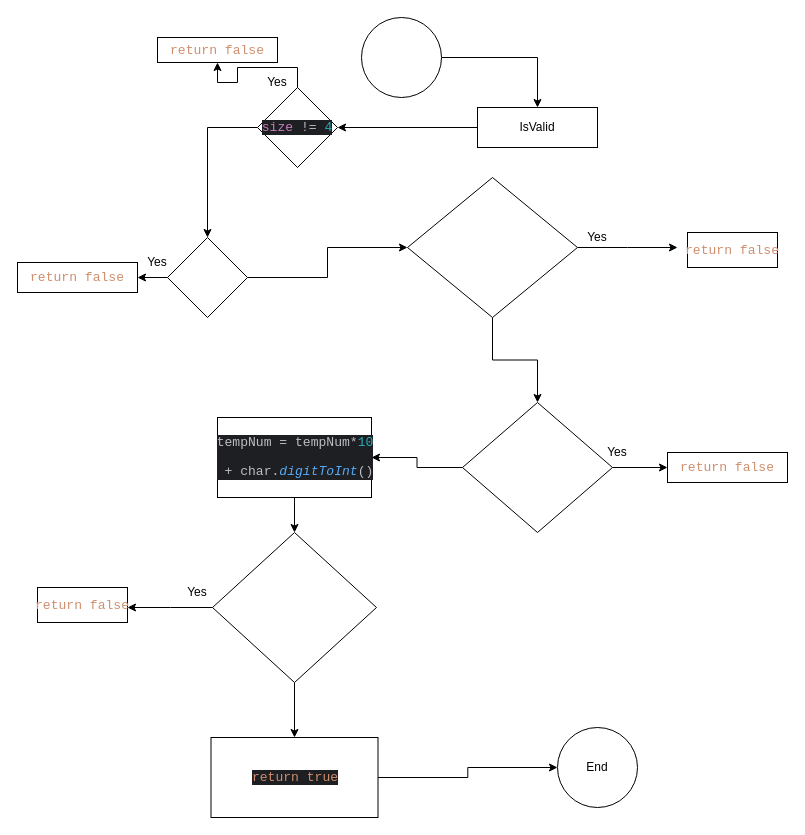
Some shapes in this 805 by 835 pixel diagram are drawn without their labels. Here are the shapes that lost their labels. From the top down, the centre of each, then its label:
(401,57): Start
(492,247): (string[ 0 ] == '0' && string. length > 1
(207,277): isEmpty
(537,467): !(char. isDigit ())
(294,607): !(tempNum in 0 .. 255 )
